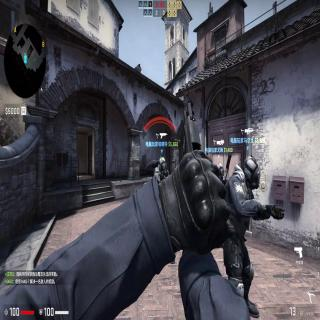CT-Head: (244, 156, 260, 189)
